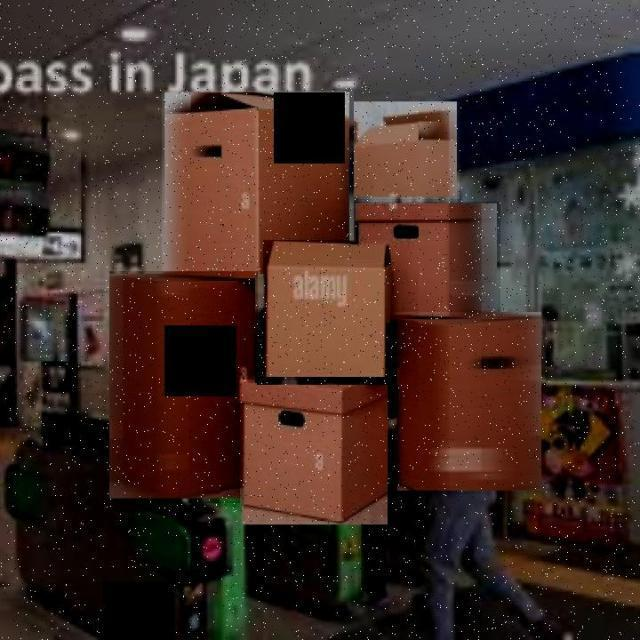box: (162, 90, 354, 278), (110, 271, 260, 503), (394, 312, 546, 496), (241, 383, 390, 528), (354, 202, 501, 326), (263, 240, 389, 380), (352, 101, 460, 199)
